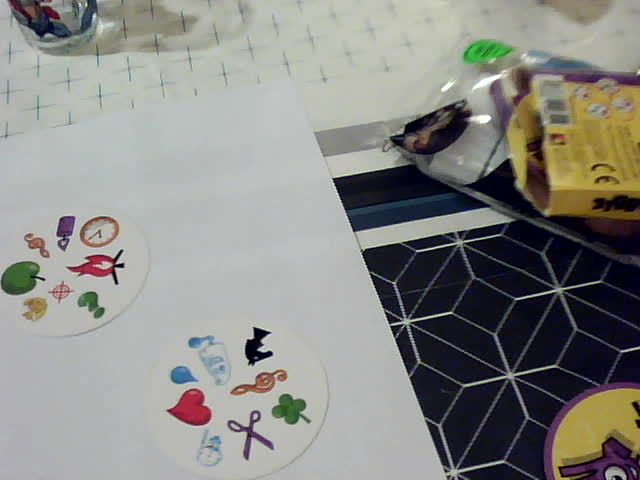bonhomme_neige: (190, 429, 230, 471)
bougie: (52, 214, 77, 253)
cheval: (239, 325, 276, 366)
cible: (46, 279, 77, 305)
ciseau: (228, 408, 276, 462)
coeur: (161, 386, 216, 428)
fantome: (185, 333, 232, 386)
feu: (64, 250, 128, 287)
goutte: (163, 364, 201, 386)
horloge: (79, 214, 127, 249)
note: (228, 367, 290, 396), (19, 230, 53, 259)
point_interrogation: (71, 289, 108, 320)
pomme: (1, 258, 49, 296)
trefle: (270, 391, 318, 427)
